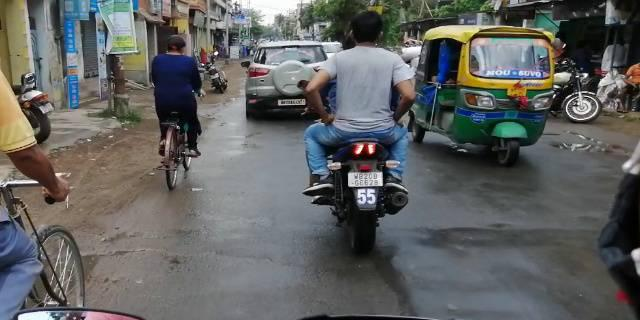Autorickshaw: (430, 26, 561, 165)
Car: (242, 38, 331, 119)
Cycle: (149, 35, 201, 192)
Motorbike: (309, 16, 411, 248)
